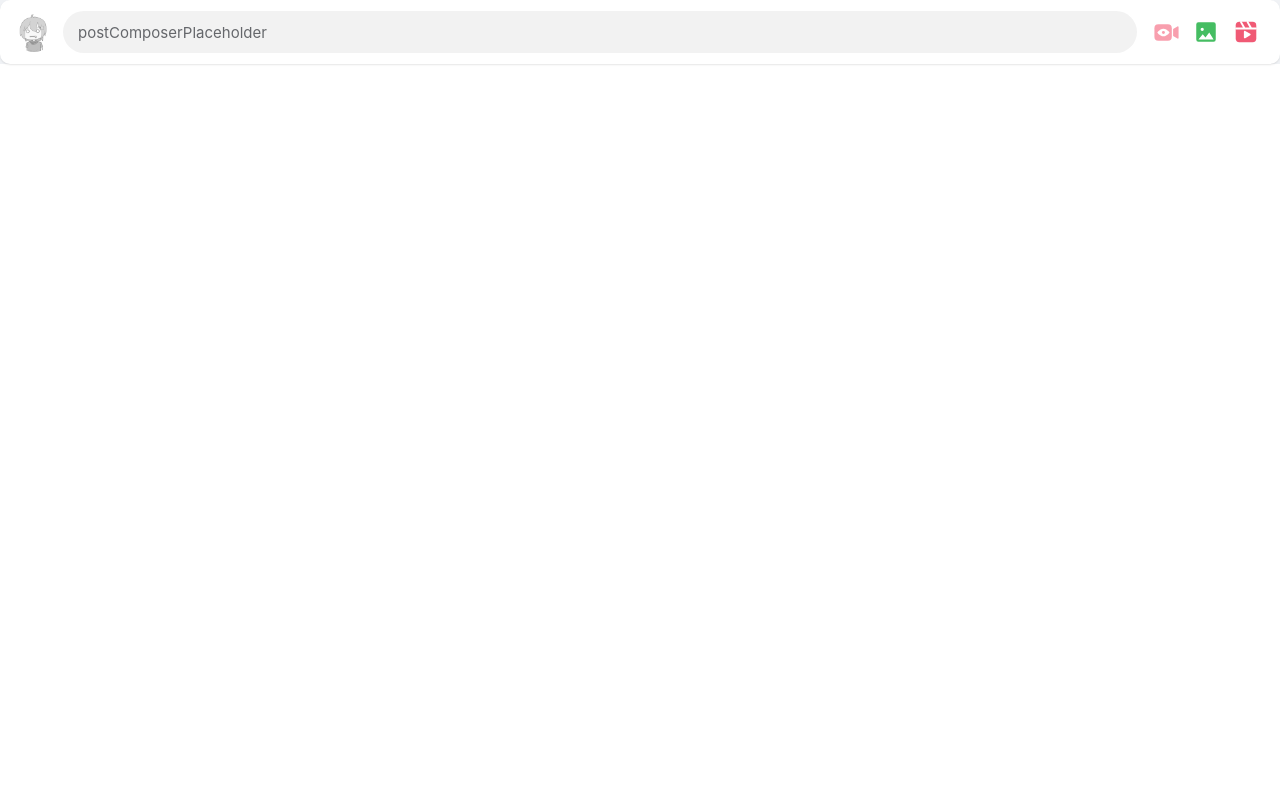
GatewayHomePage › opens the Home Reel composer from state isolated inside the composer subtree
This screenshot has width=1280, height=800.
Click the button named "createReel".
click(1246, 32)  # box [1226,11,1266,53]
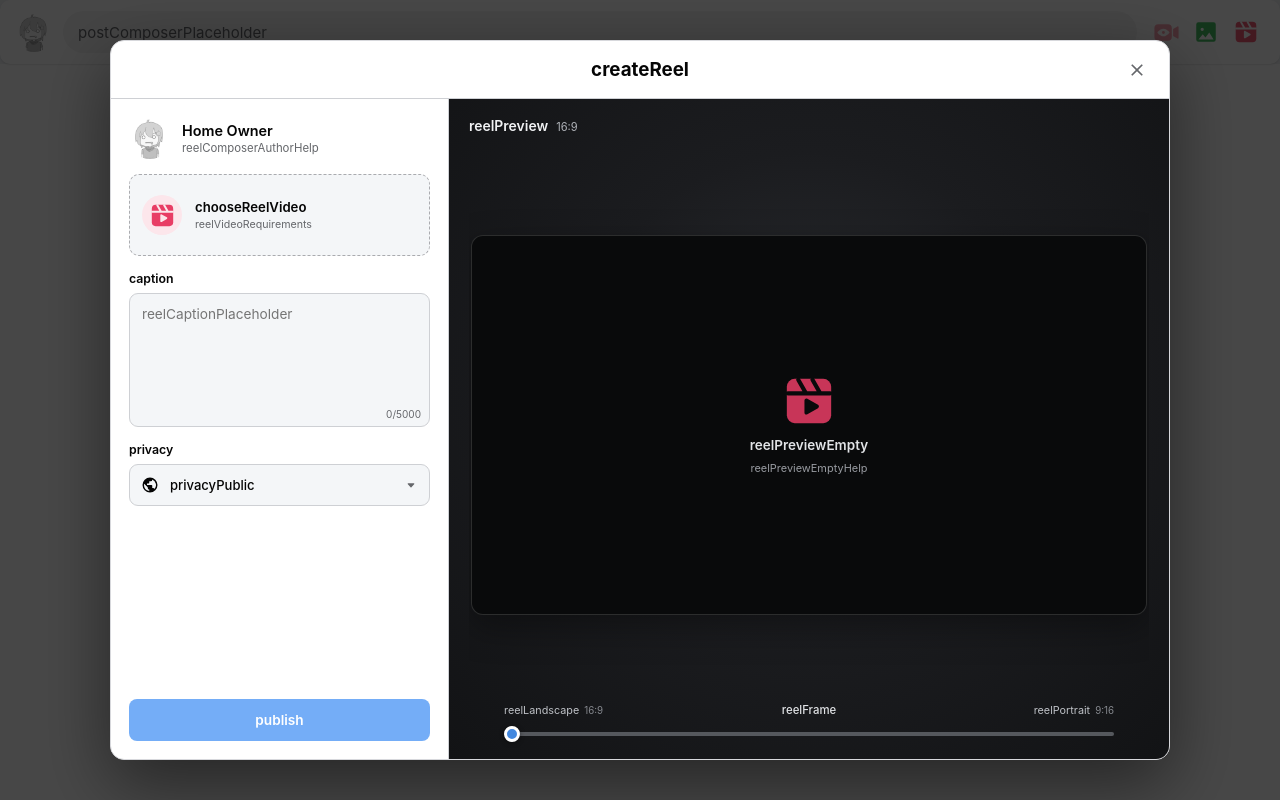
Check: the dialog "createReel" is shown
Click the button named "close".
click(1137, 70)  # box [1117,50,1157,90]
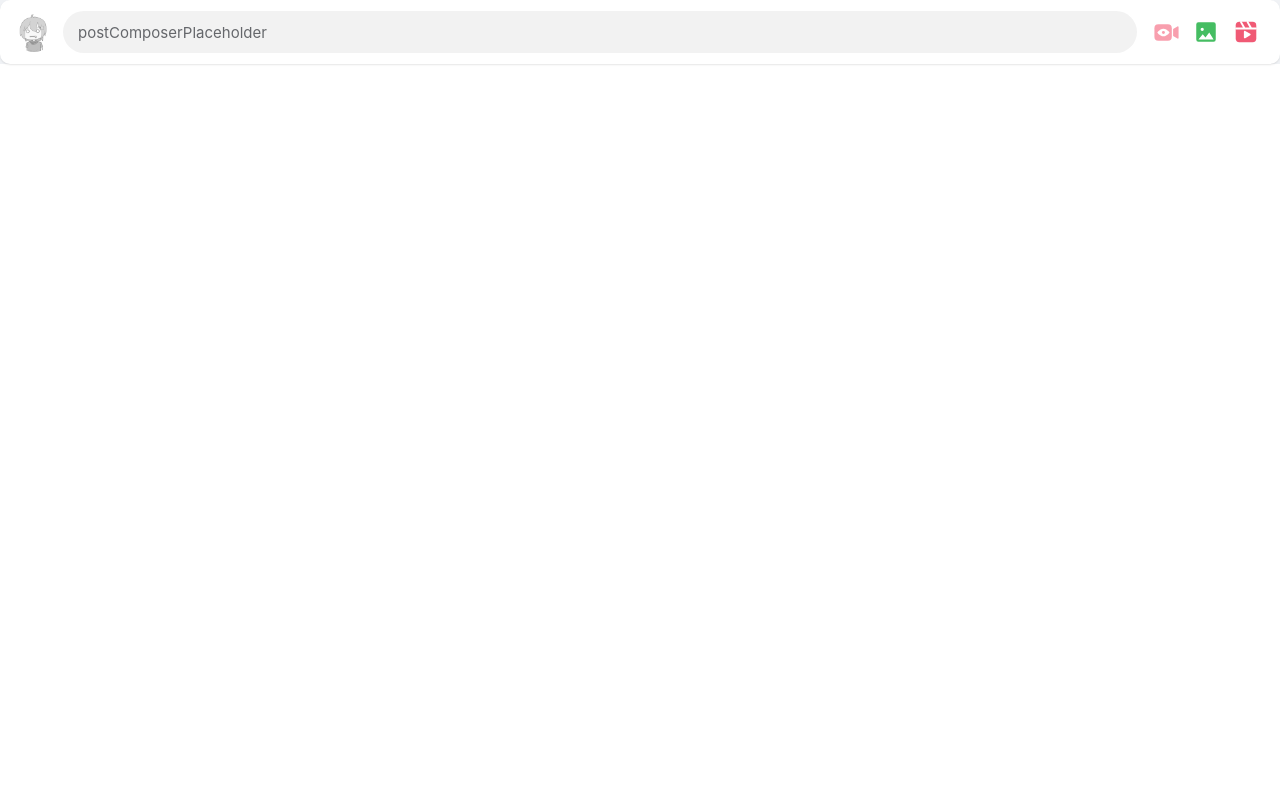
Check: the heading "createReel" is gone
